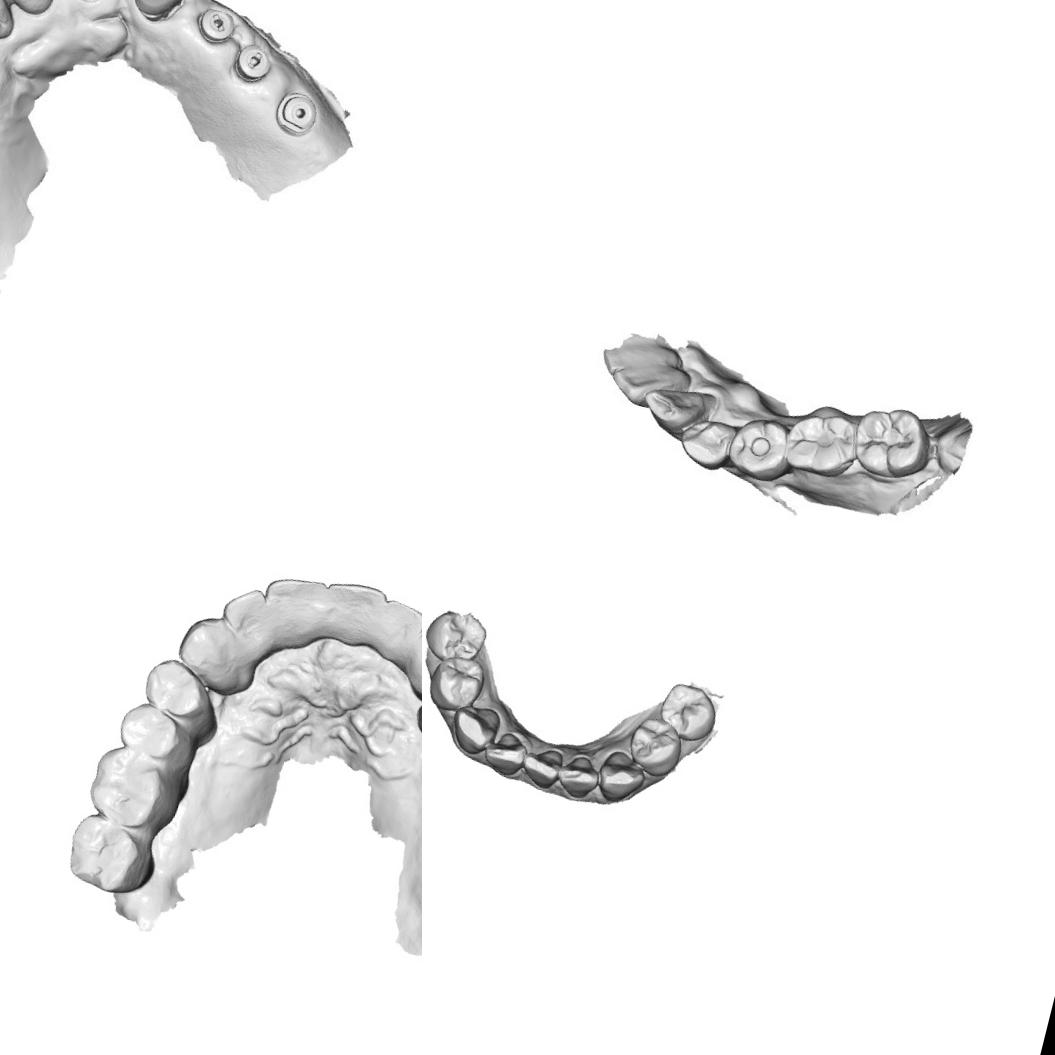canine: (170, 608, 252, 694), (632, 374, 722, 450), (592, 746, 650, 808), (444, 699, 503, 759), (403, 622, 422, 701)
implant: (263, 79, 328, 146)
implant_minus: (190, 1, 250, 56), (223, 36, 280, 88)
incisor: (252, 566, 333, 656), (314, 574, 390, 649), (611, 352, 692, 413), (214, 581, 280, 649), (366, 595, 422, 670), (479, 726, 531, 778), (516, 738, 566, 791), (552, 750, 602, 802), (126, 0, 197, 19)
molar: (57, 808, 159, 900), (82, 742, 176, 834), (852, 402, 938, 484), (782, 402, 864, 480)
premolar: (134, 650, 215, 728), (110, 694, 188, 764), (652, 678, 723, 745), (422, 602, 491, 670), (423, 649, 490, 718), (621, 713, 688, 781), (730, 414, 794, 483), (679, 410, 744, 470)
